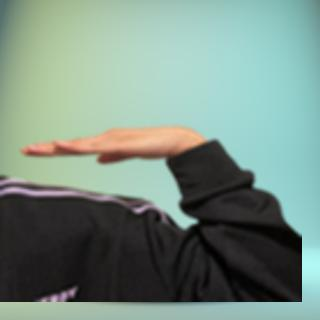Wait: (13, 116, 203, 170)
